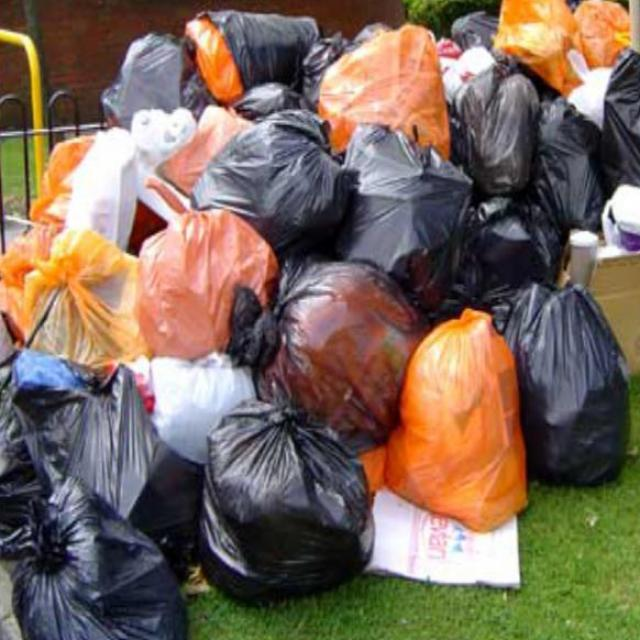plastik: (12, 350, 203, 579), (228, 262, 427, 451), (200, 402, 373, 600), (382, 309, 526, 531), (0, 476, 186, 640), (504, 283, 629, 484), (338, 125, 471, 311), (193, 109, 353, 256), (137, 210, 280, 359), (317, 24, 450, 158), (26, 229, 147, 374), (454, 195, 569, 303), (151, 353, 256, 463), (454, 63, 538, 196), (533, 97, 604, 232), (208, 10, 320, 89), (65, 127, 137, 249), (494, 0, 581, 95), (602, 50, 640, 192), (574, 0, 630, 67)
